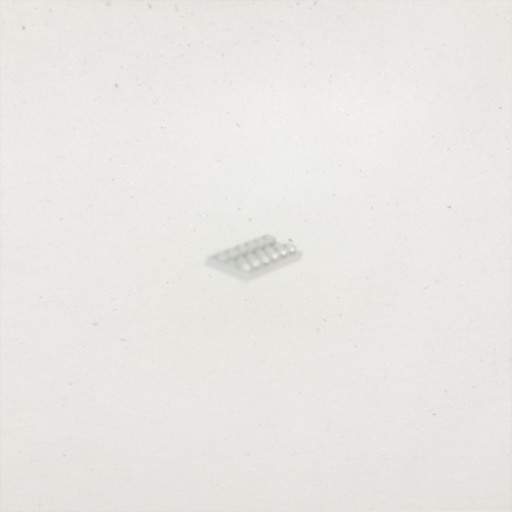lego: (204, 234, 304, 284)
